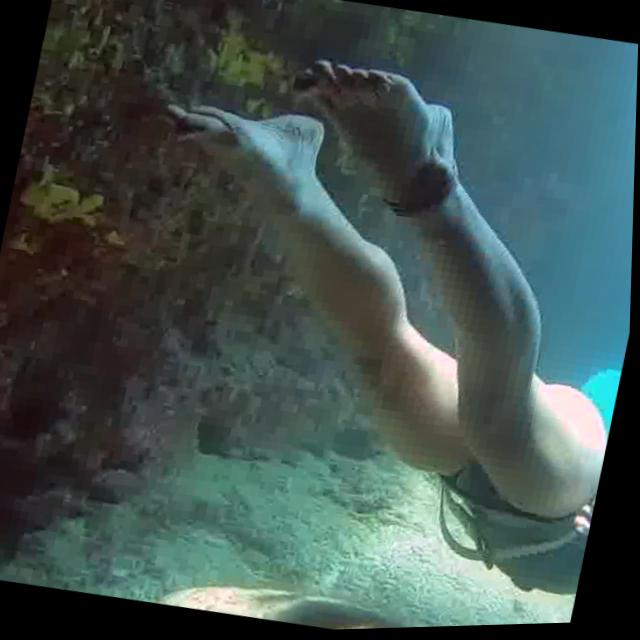human: (67, 0, 640, 611)
